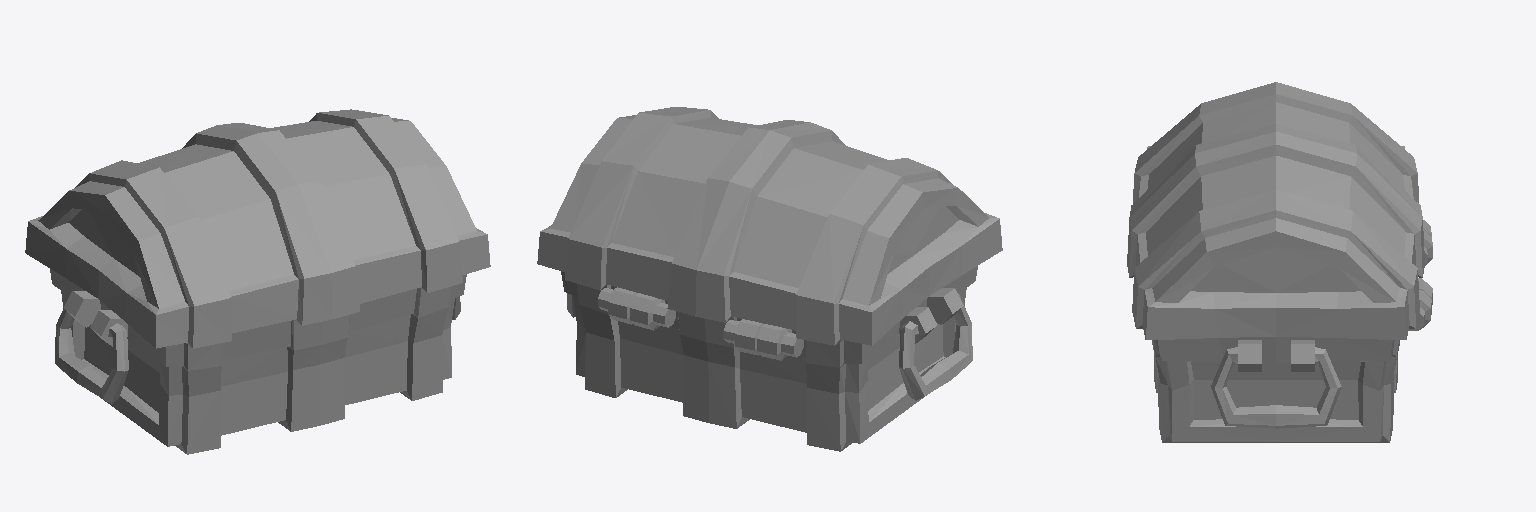
File: chest2.obj
3 views of the same model, side by side, from view 1: azimuth 30°, elevation 25°; view 2: azimuth 150°, elevation 25°; view 3: azimuth 270°, elevation 25° (orthographic).
Parts seen in each view (by area): view 1: chest2; view 2: chest2; view 3: chest2.
Boxes of the visible parts, box(x1,y1,x2,y2) form: chest2: box(25, 109, 490, 454); chest2: box(537, 107, 1002, 451); chest2: box(1127, 82, 1432, 442).
Bounding box in the file's own units: 2.15 × 1.41 × 1.57.